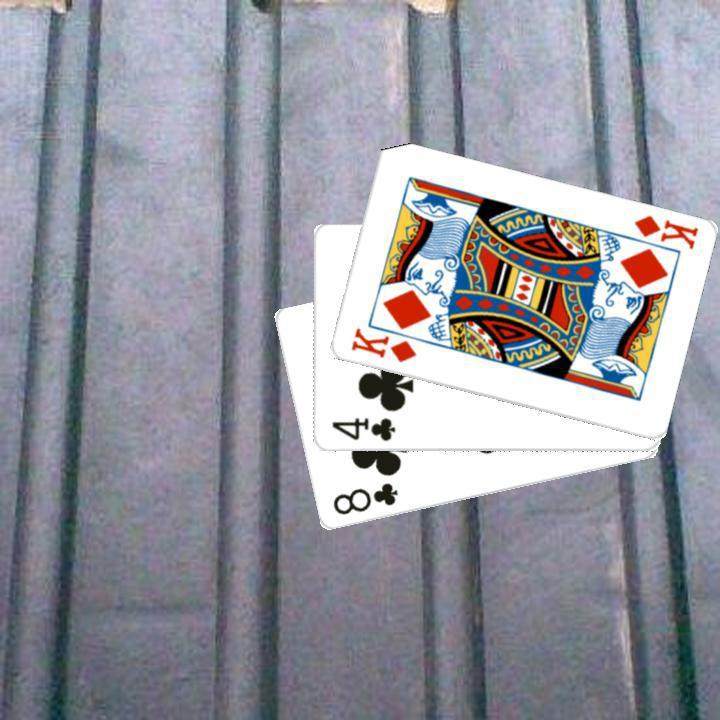4: (327, 414, 397, 443)
8: (328, 478, 400, 518)
K: (346, 324, 418, 365), (629, 211, 700, 252)
